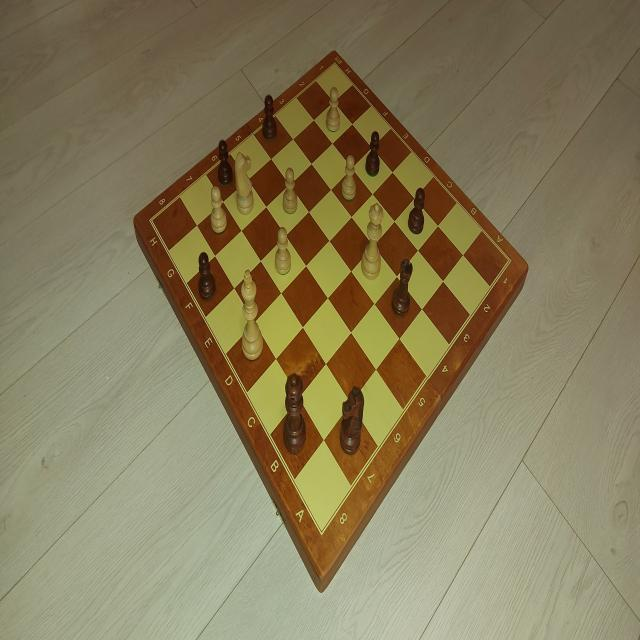chess-table-corners: (144, 205, 166, 237), (312, 516, 331, 547), (326, 56, 344, 82), (498, 248, 514, 276)
